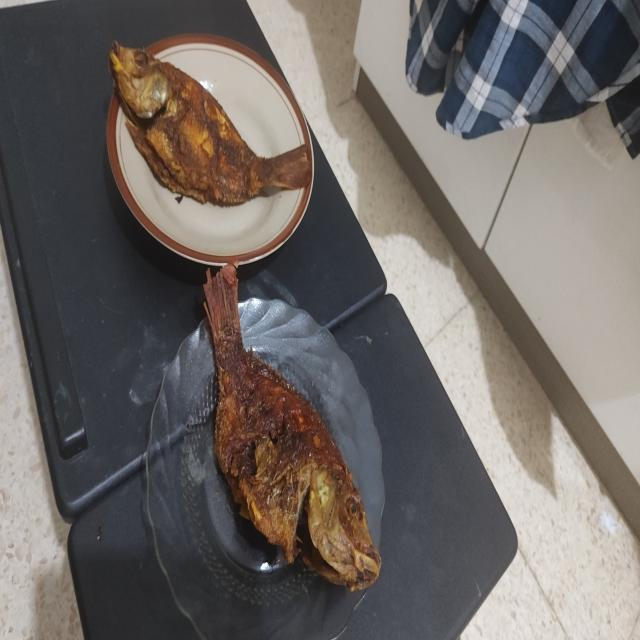ikan_mujair: (204, 264, 380, 591), (109, 41, 312, 206)
